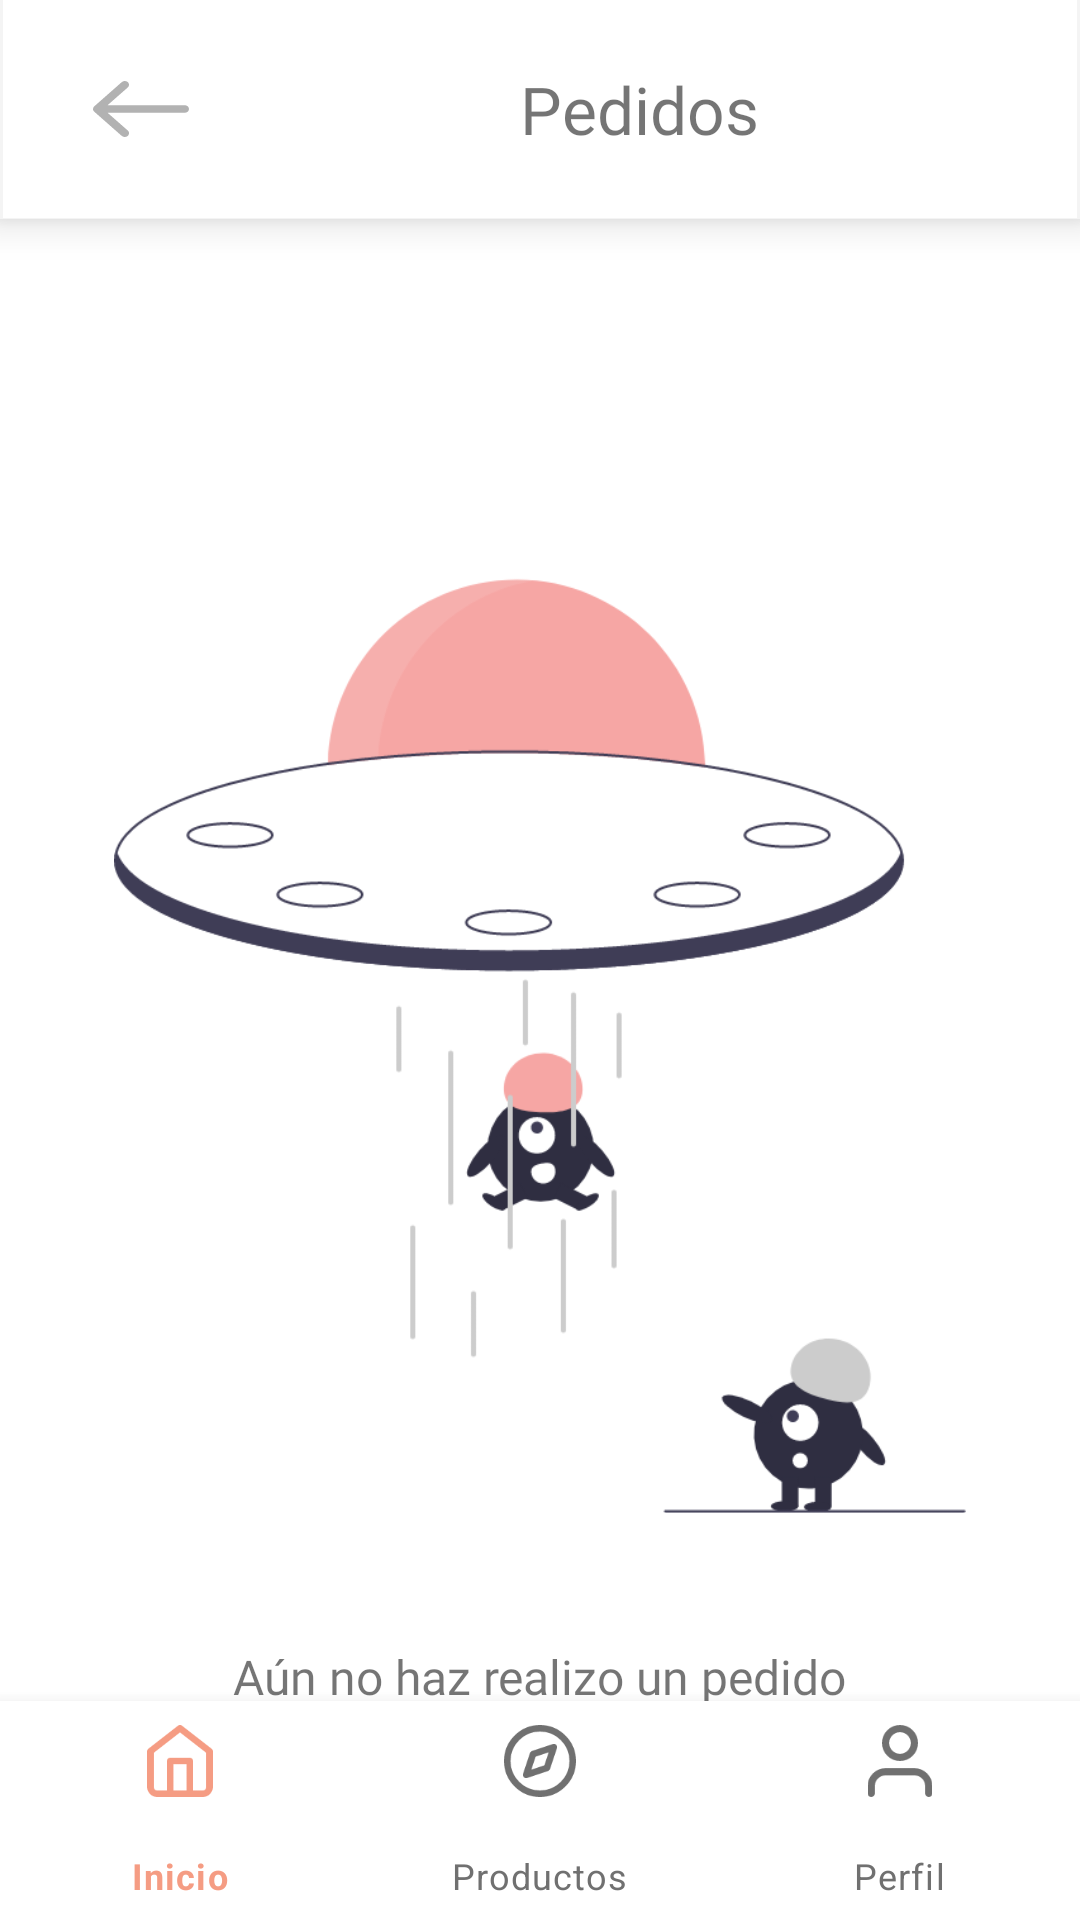

Locate icon controls on the screen. Image size 1080x1920, boxes as (x1, y1, x2, y2).
back: (93, 81, 189, 137)
